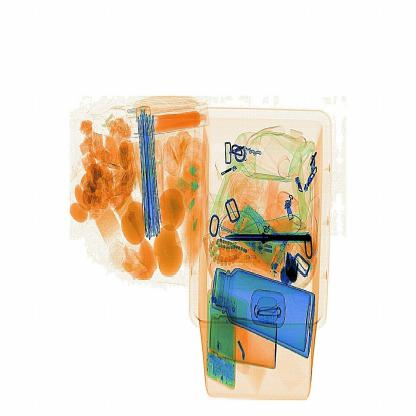gun: (223, 220, 320, 254)
